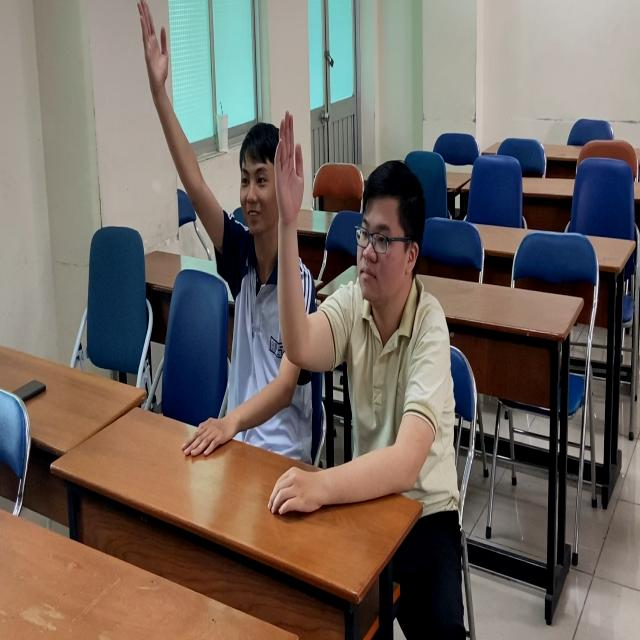raise_hand: (276, 105, 445, 513)
